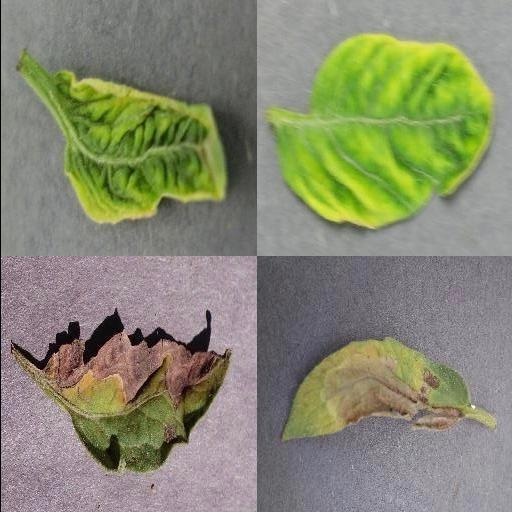Early Blight: (39, 321, 233, 471)
Late Blight: (279, 336, 471, 446)
Yellow Leaf Curl Virus: (272, 33, 496, 231), (55, 69, 227, 225)
